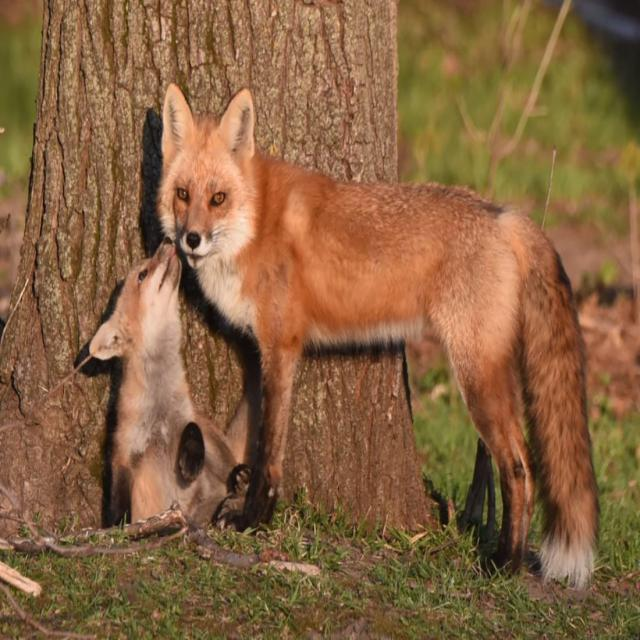fox: (155, 80, 600, 590), (73, 236, 257, 532)
